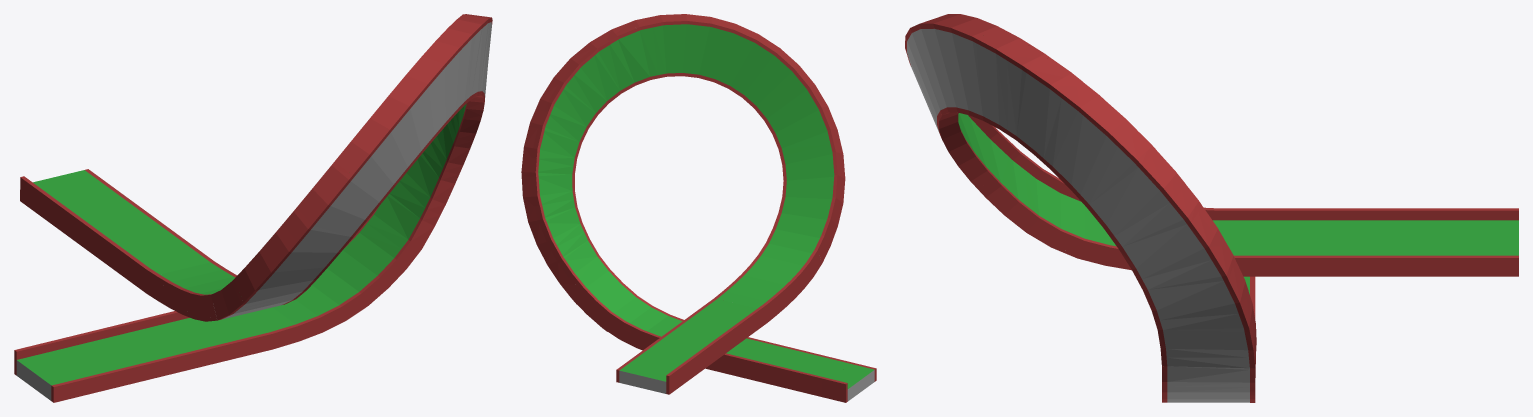
Rendered from 90_Loop.fbx.
The picture shows the model from 3 angles, left to right: view 1: azimuth 30°, elevation 25°; view 2: azimuth 150°, elevation 25°; view 3: azimuth 270°, elevation 25°; orthographic projection. The views are drawn at different scales.
Visible parts, largest first — view 1: tg_0027_Mlt_3; view 2: tg_0027_Mlt_3; view 3: tg_0027_Mlt_3.
Boxes of the visible parts, x1,y1,x2,y2 form: tg_0027_Mlt_3: (14, 14, 492, 402); tg_0027_Mlt_3: (521, 14, 876, 402); tg_0027_Mlt_3: (905, 14, 1518, 402).
Size of the model in its own units: 553 by 409 by 569.
